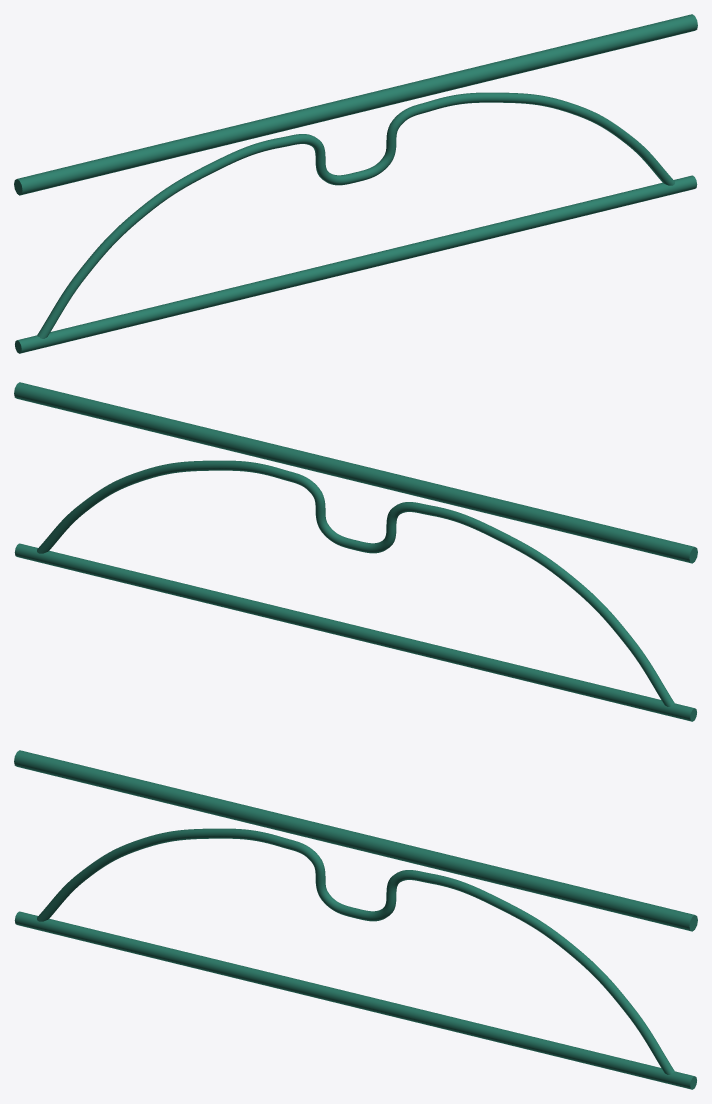
The model's file is green_railing_upper_panel.glb.
3 views of the same model, one above another, from view 1: azimuth 30°, elevation 25°; view 2: azimuth 150°, elevation 25°; view 3: azimuth 330°, elevation 25° (orthographic).
Visible parts, largest first — view 1: green_railing_upper_panel; view 2: green_railing_upper_panel; view 3: green_railing_upper_panel.
Part boxes in pixels (x1,y1,x2,y2): green_railing_upper_panel: [14, 14, 697, 353]; green_railing_upper_panel: [14, 382, 697, 721]; green_railing_upper_panel: [14, 750, 697, 1089].
Size of the model in its own units: 2 by 0.49 by 0.044.
